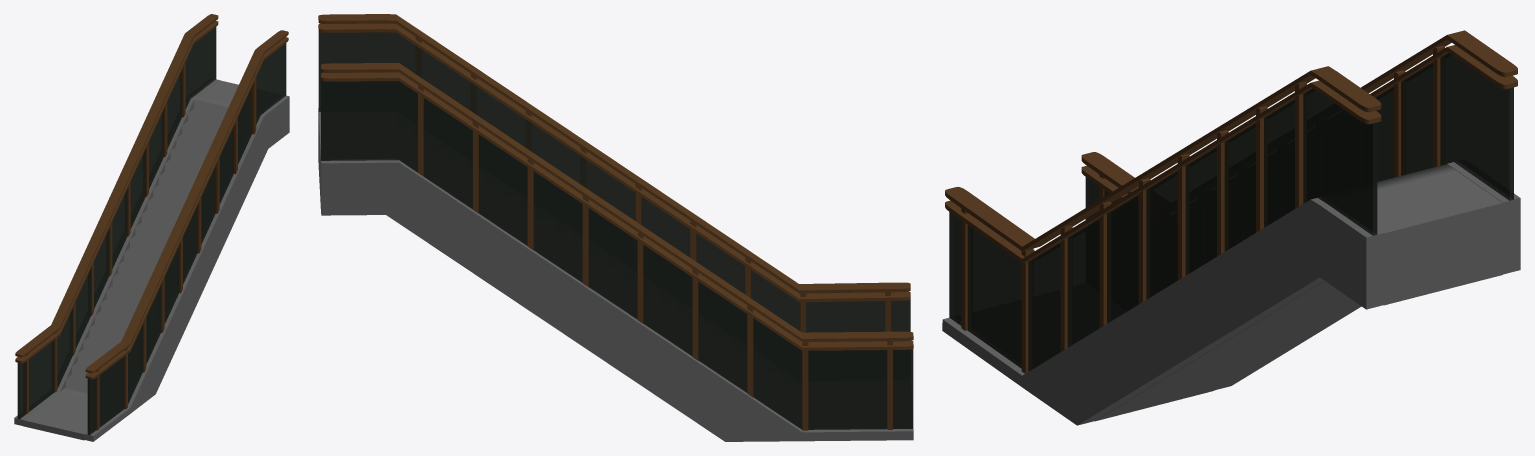
File: stair.fbx
The picture shows the model from 3 angles, left to right: view 1: azimuth 30°, elevation 25°; view 2: azimuth 150°, elevation 25°; view 3: azimuth 270°, elevation 25°; orthographic projection. The views are drawn at different scales.
Parts seen in each view (by area): view 1: Box203; view 2: Box203; view 3: Box203.
Part boxes in pixels (x1,y1,x2,y2): Box203: (14,14,289,441); Box203: (318,14,913,441); Box203: (942,30,1520,425).
Bounding box in the file's own units: 6.49 × 4.69 × 4.74.
